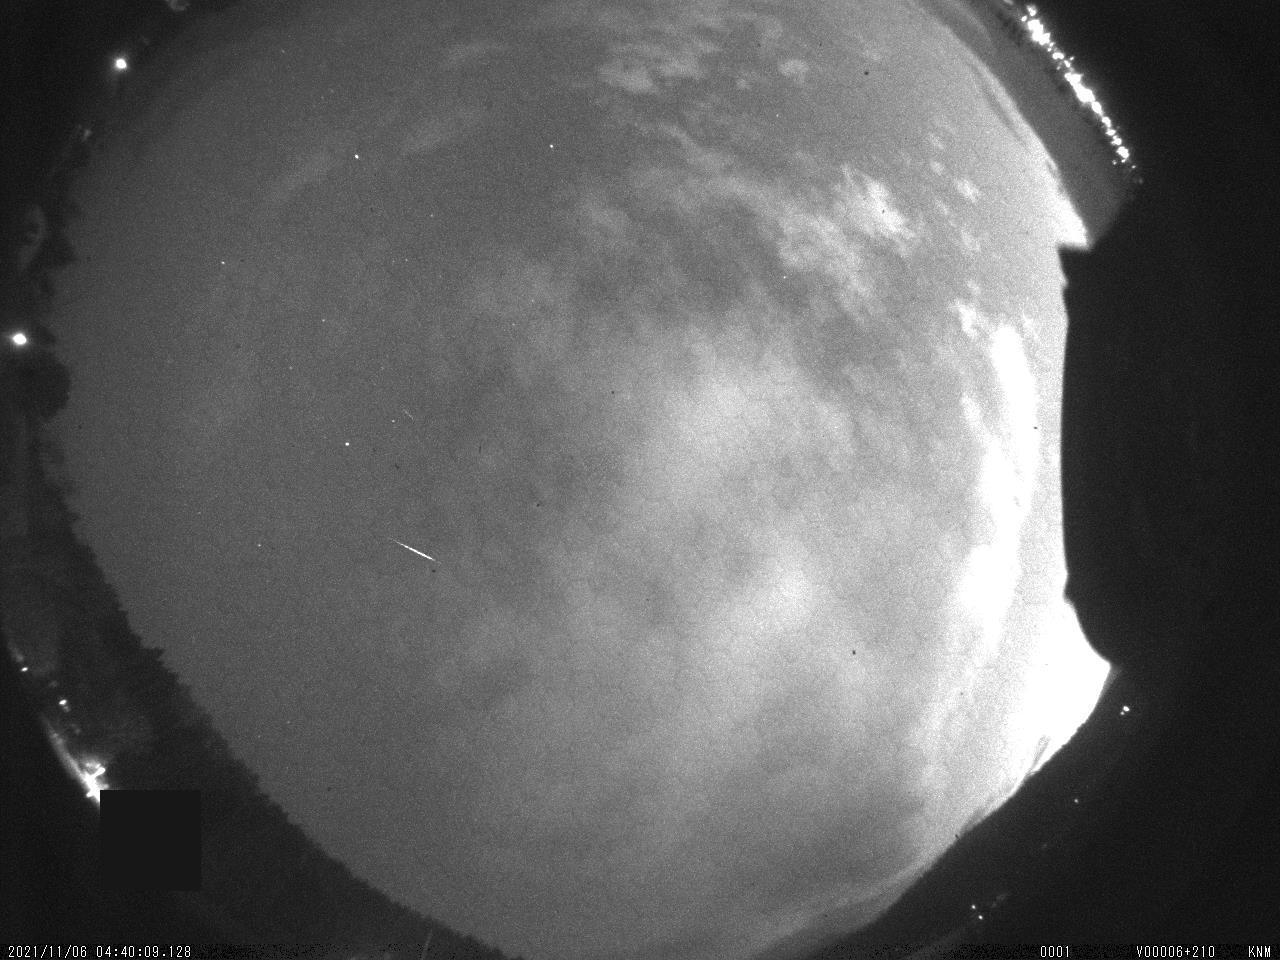Meteor: (393, 536, 439, 564)
